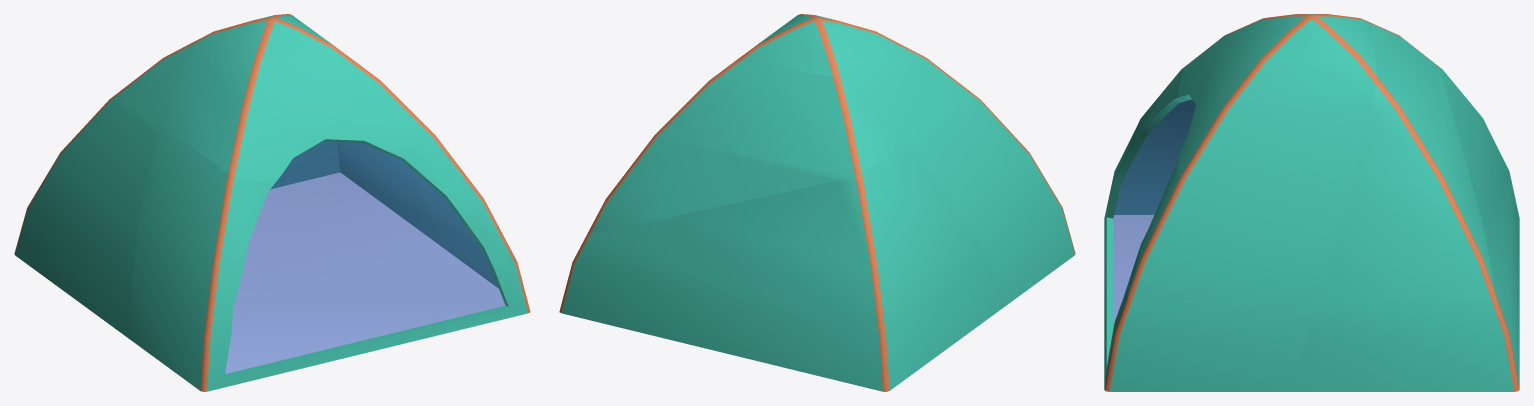
File: Tent_03_cut.fbx
The picture shows the model from 3 angles, left to right: view 1: azimuth 30°, elevation 25°; view 2: azimuth 150°, elevation 25°; view 3: azimuth 270°, elevation 25°; orthographic projection. The views are drawn at different scales.
Visible parts, largest first — view 1: Tent_03_cut00, Tent_03_cut01, Tent_03_cut03, Tent_03_cut02; view 2: Tent_03_cut01, Tent_03_cut02, Tent_03_cut00, Tent_03_cut03; view 3: Tent_03_cut03, Tent_03_cut02, Tent_03_cut00, Tent_03_cut01.
Part boxes in pixels (box(x1,y1,x2,y2)): Tent_03_cut00: box(131, 125, 530, 391); Tent_03_cut01: box(14, 93, 443, 341); Tent_03_cut03: box(162, 14, 501, 233); Tent_03_cut02: box(118, 39, 409, 168); Tent_03_cut01: box(559, 142, 1007, 391); Tent_03_cut02: box(588, 61, 903, 233); Tent_03_cut00: box(904, 93, 1075, 304); Tent_03_cut03: box(733, 14, 971, 142); Tent_03_cut03: box(1127, 14, 1376, 300); Tent_03_cut02: box(1318, 22, 1496, 300); Tent_03_cut00: box(1104, 64, 1318, 391); Tent_03_cut01: box(1288, 64, 1519, 391).
Size of the model in its own units: 166 by 127 by 166.
